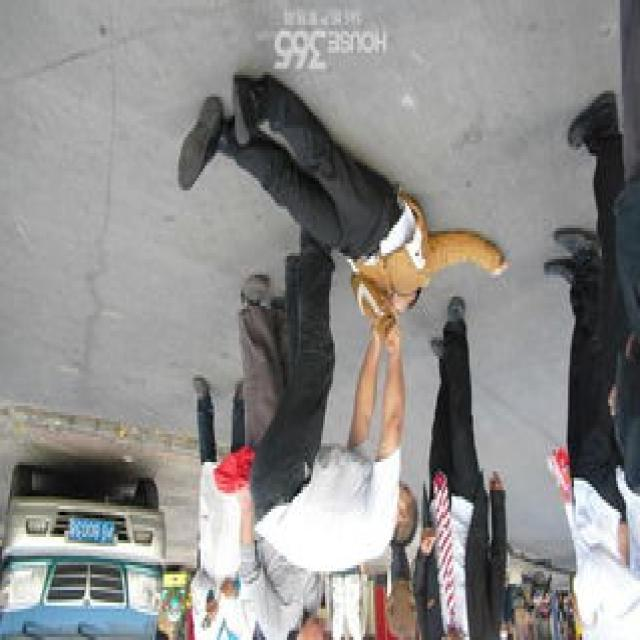nofight: (178, 72, 500, 324), (265, 231, 422, 555), (552, 209, 640, 640), (416, 299, 520, 637)
